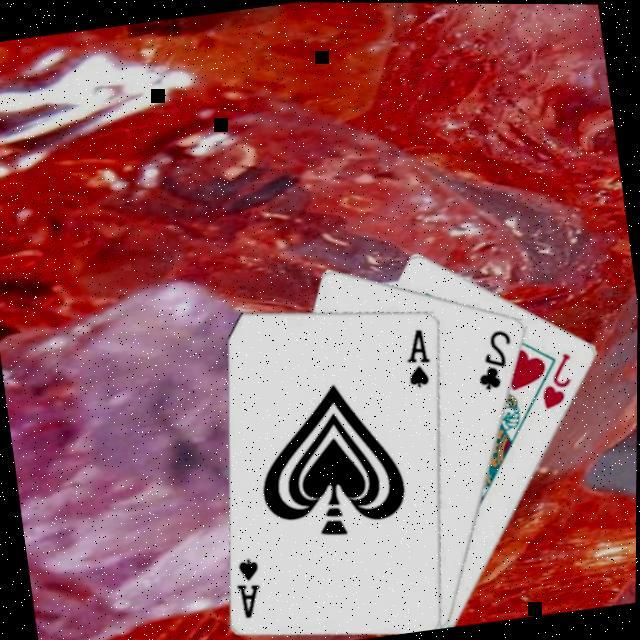2C: (471, 325, 523, 395)
AS: (232, 554, 270, 624), (401, 325, 440, 393)
JH: (536, 349, 583, 414)
